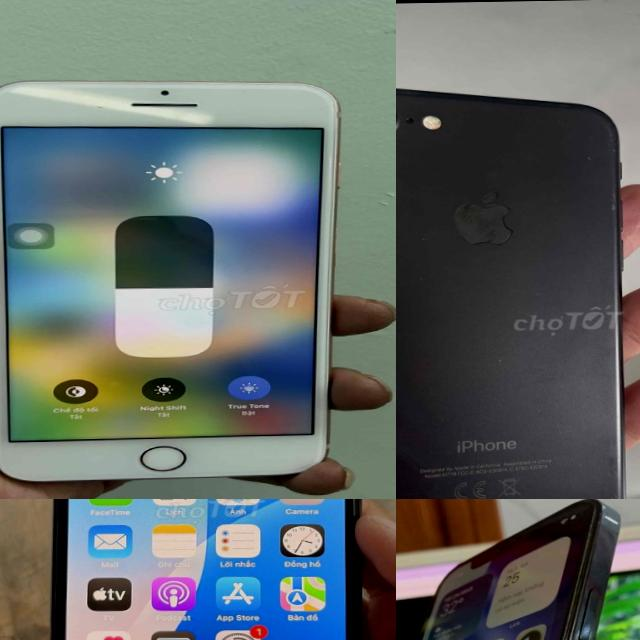gen_12_13: (396, 499, 635, 640)
gen_7_8: (0, 72, 349, 491), (396, 77, 634, 499)
gen_x_xs: (46, 499, 364, 640)
scratch: (558, 98, 623, 215), (447, 186, 516, 248), (552, 465, 622, 499), (554, 412, 566, 442), (486, 354, 502, 364)
